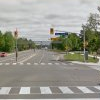crosswalk: (0, 85, 100, 94), (0, 62, 66, 64)
